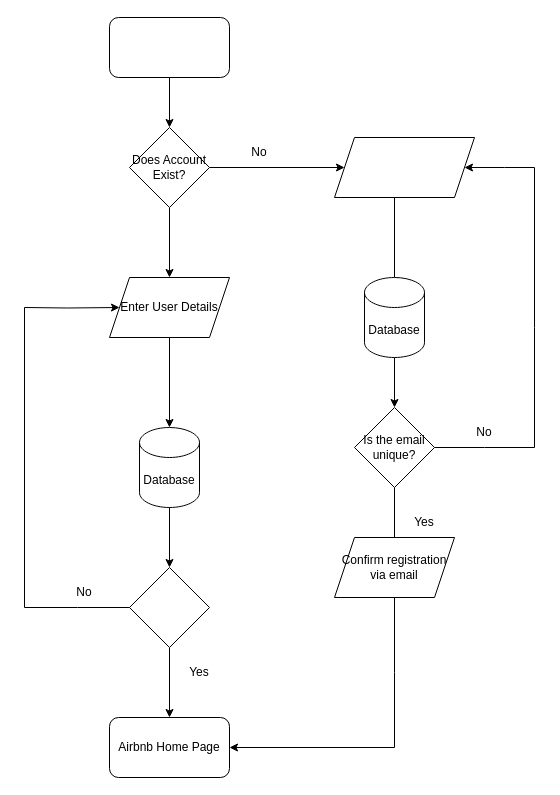
The diagram is 560 pixels wide and 795 high, and some of its shapes have lost their labels. The shapes that lost their labels are listed below. From the top down, each one's centre as x and y in pixels, then its label:
At point (169, 47): "Login/SignUp".
At point (404, 167): "Register User Details".
At point (169, 607): "Is the password correct?".
